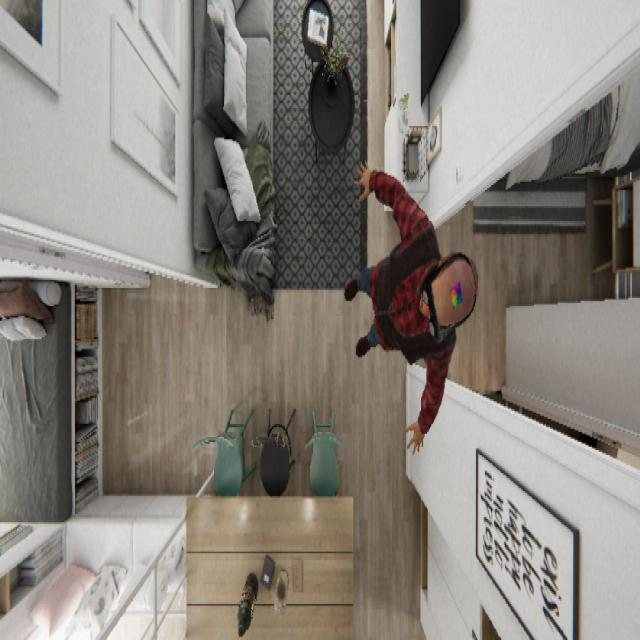Colored-Marker: (448, 277, 463, 309)
Human: (343, 157, 479, 454)
